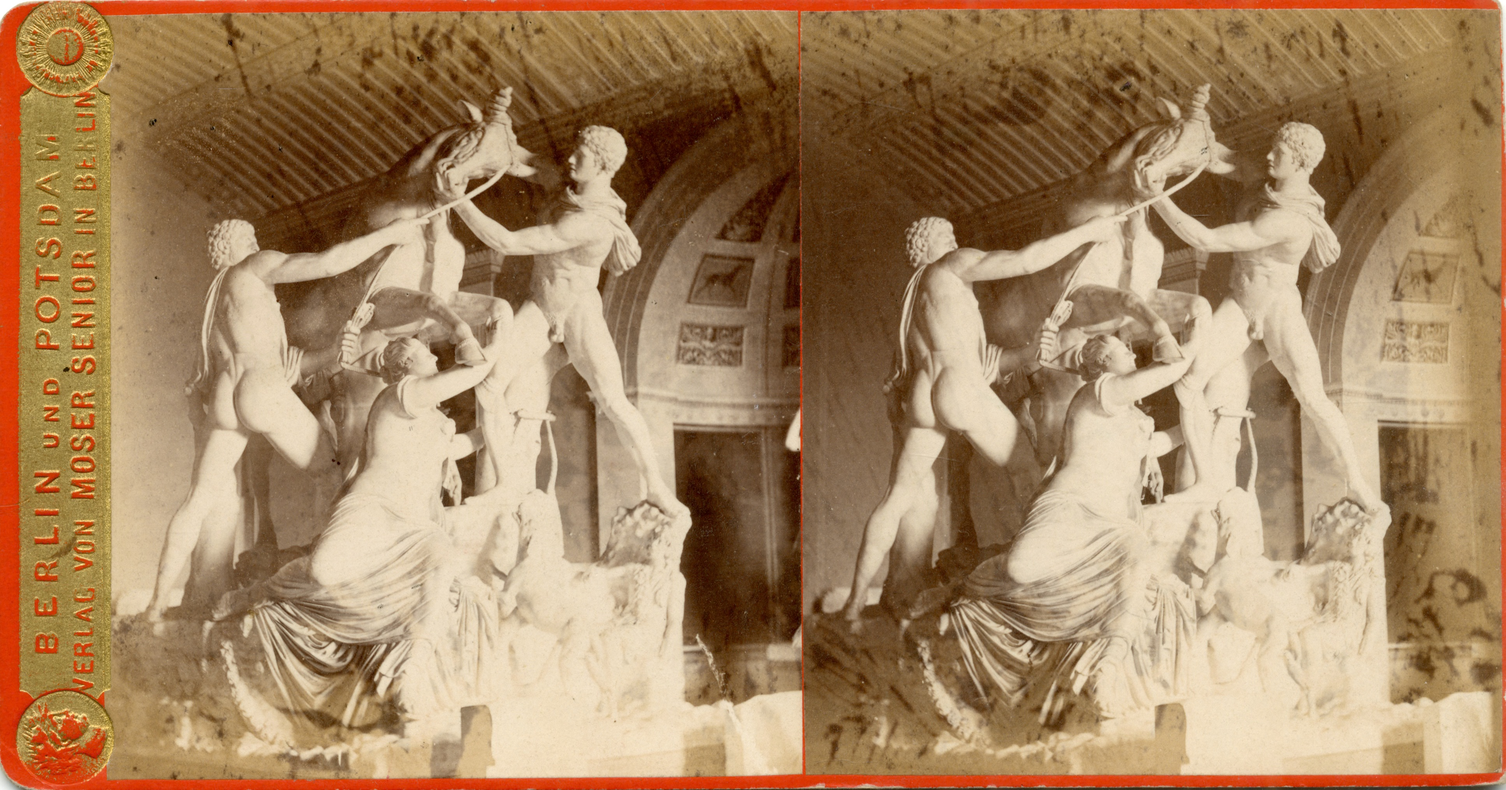half_image: (803, 7, 1502, 776), (114, 8, 800, 779)
